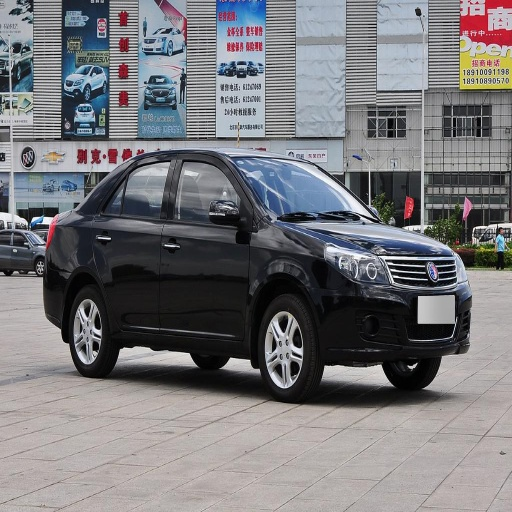front_bumper: (316, 253, 472, 364)
front_right_door: (161, 153, 249, 338)
front_right_light: (326, 241, 381, 282)
